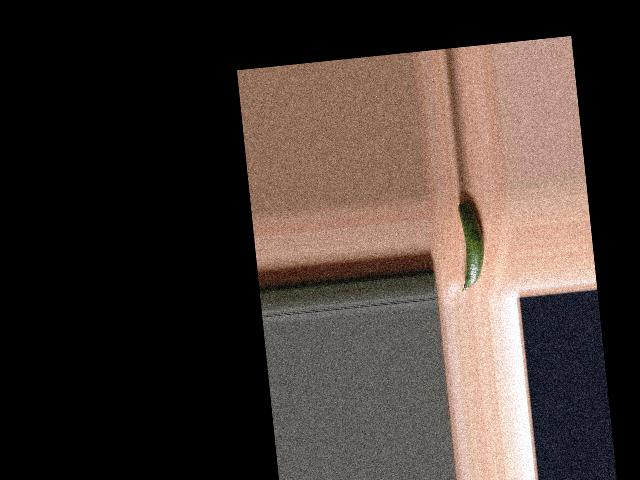cucumber: (453, 198, 489, 292)
